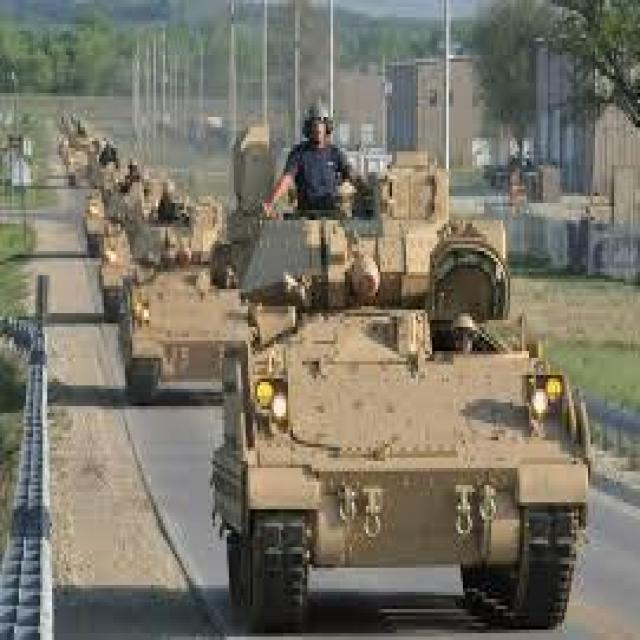Tanks: (229, 126, 574, 621), (127, 218, 215, 377), (96, 192, 124, 316)
